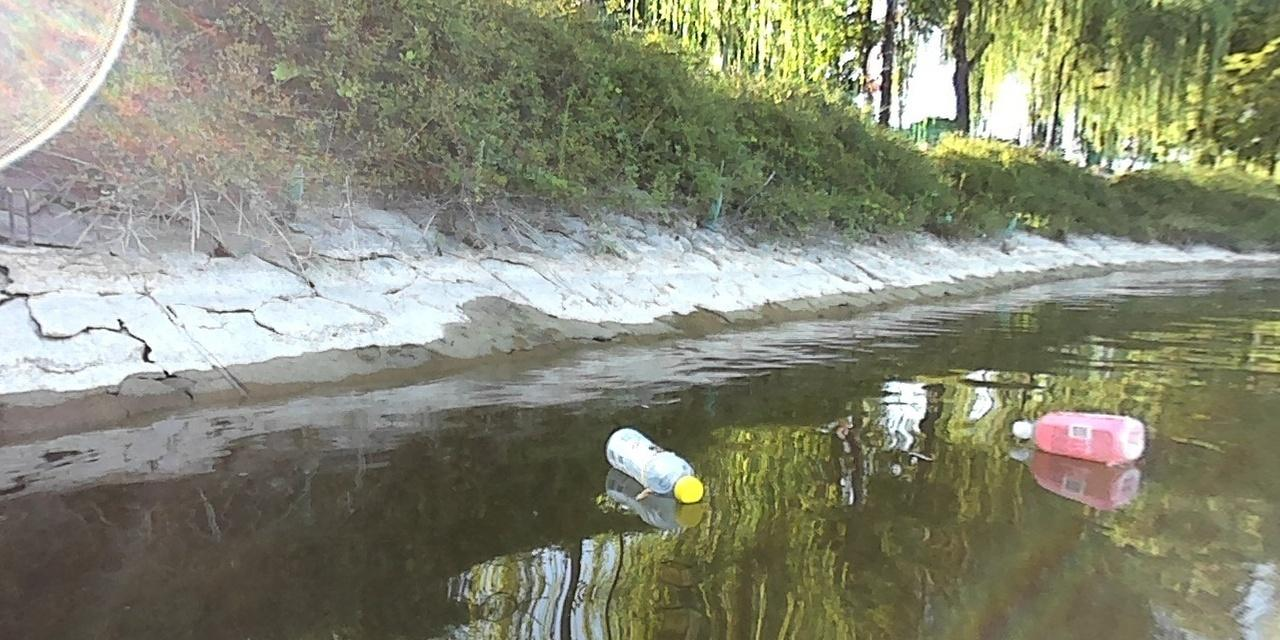bottle: (602, 422, 706, 504), (1008, 405, 1147, 466)
